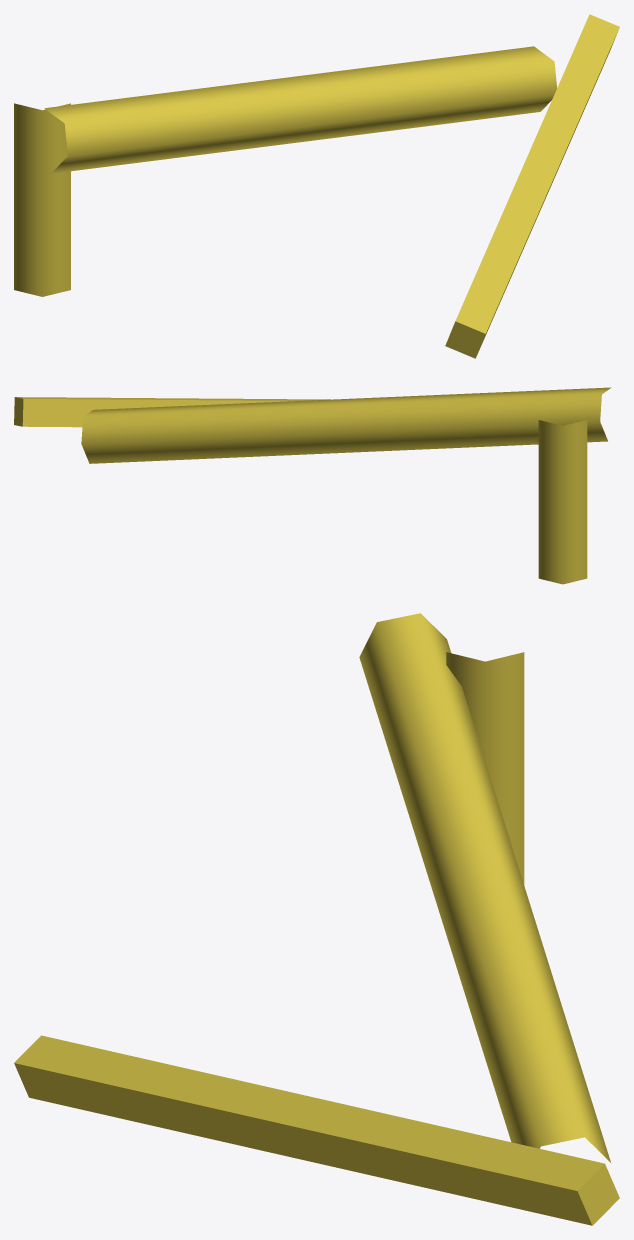
The model's file is construction-crane-wreck.glb.
3 renders of one model, top to bottom at view 1: azimuth 30°, elevation 25°; view 2: azimuth 150°, elevation 25°; view 3: azimuth 270°, elevation 25°, orthographic. The views are drawn at different scales.
Parts seen in each view (by area): view 1: Root; view 2: Root; view 3: Root.
Boxes of the visible parts, x1,y1,x2,y2 form: Root: [14, 14, 619, 358]; Root: [14, 387, 611, 584]; Root: [14, 613, 619, 1225].
Size of the model in its own units: 18.05 by 5.77 by 10.8.
